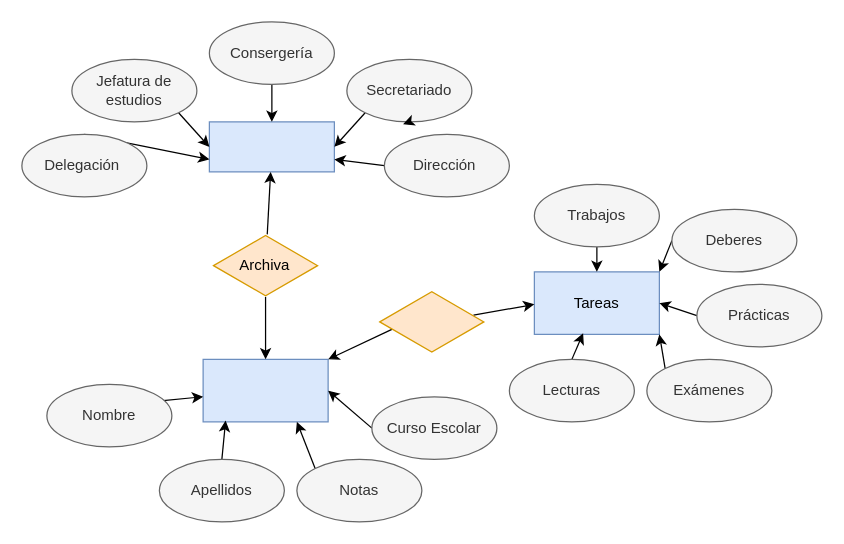
Some shapes in this 844 by 544 pixel diagram are drawn without their labels. The shapes that lost their labels are listed below. From the top down, each one's centre as x and y in pixels, then its label:
the point at 271,146: Equipo
the point at 431,321: Realiza
the point at 265,390: Estudiantado
